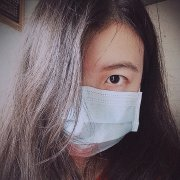face_mask: (44, 17, 143, 161)
